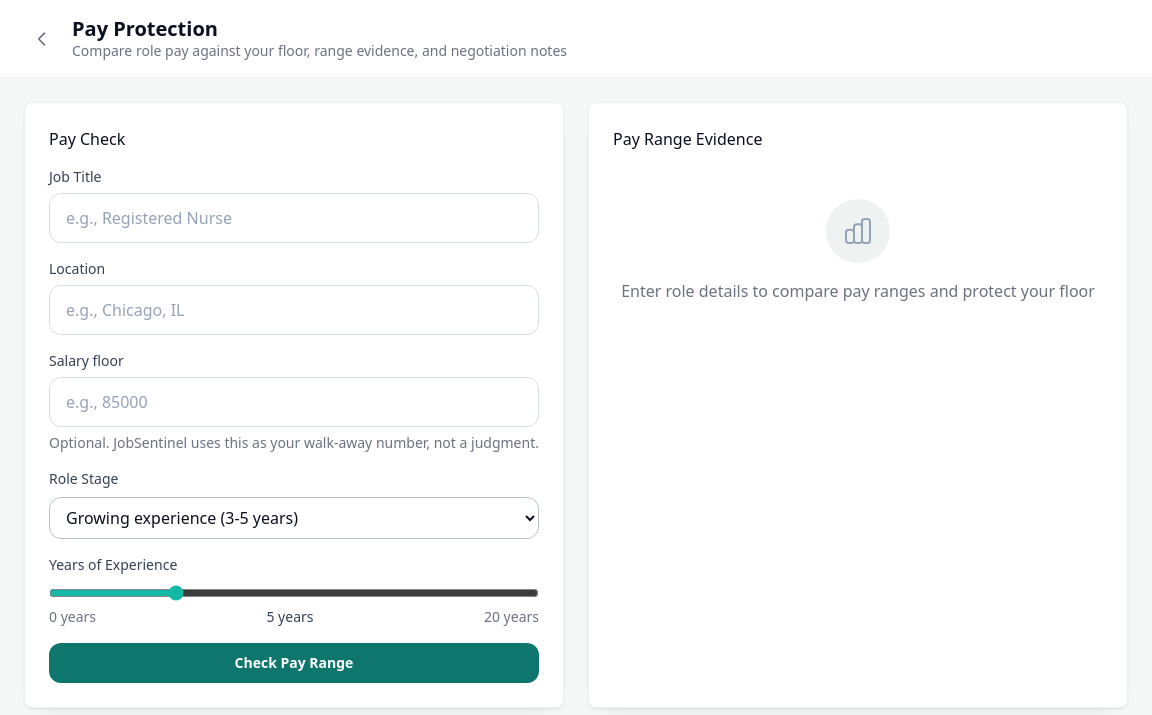
Test: Salary › warns when the salary floor is below market evidence
Type "Registered Nurse" into the field labelled "Job Title" at (294, 218), box x1=49 y1=193 x2=539 y2=243
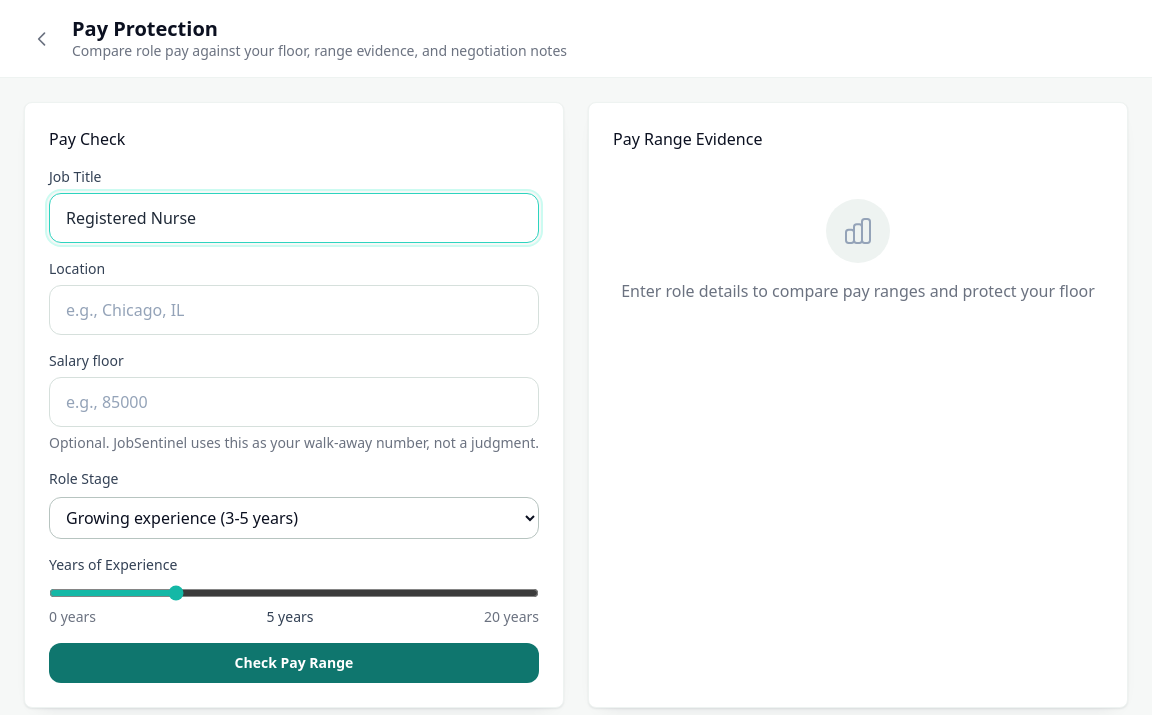
Type "Denver, CO" into the field labelled "Location" at (294, 310), box x1=49 y1=285 x2=539 y2=335
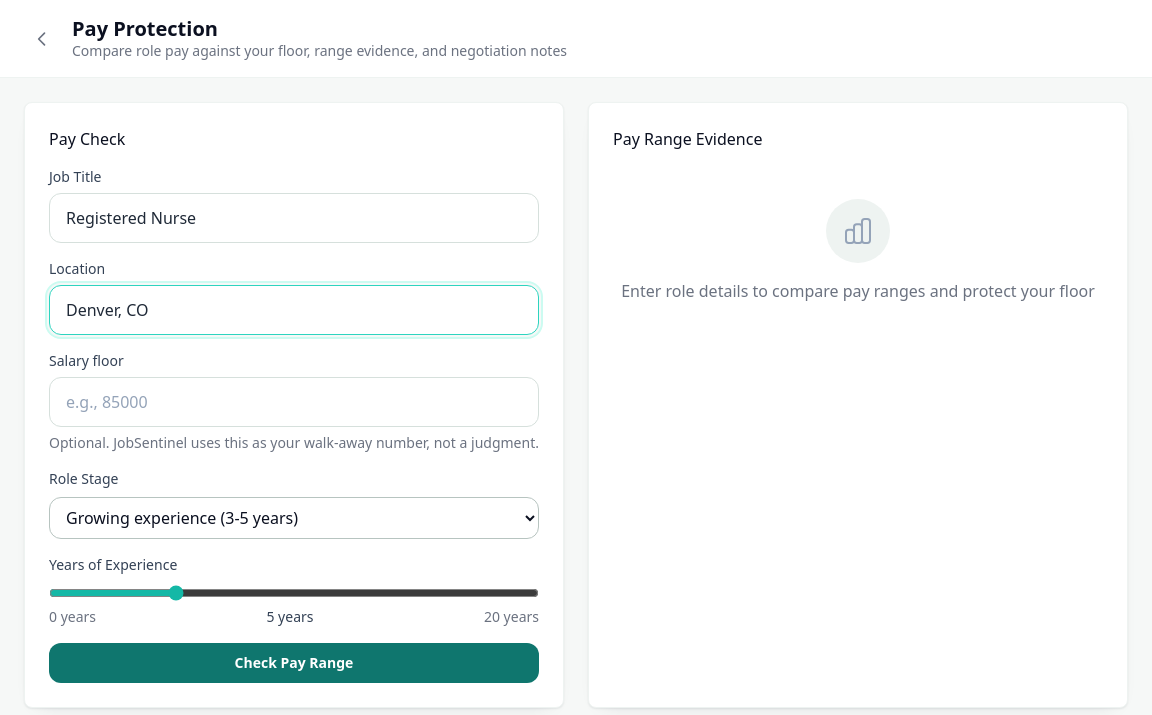
Type "120000" into the number field labelled "Salary floor" at (294, 402), box x1=49 y1=377 x2=539 y2=427
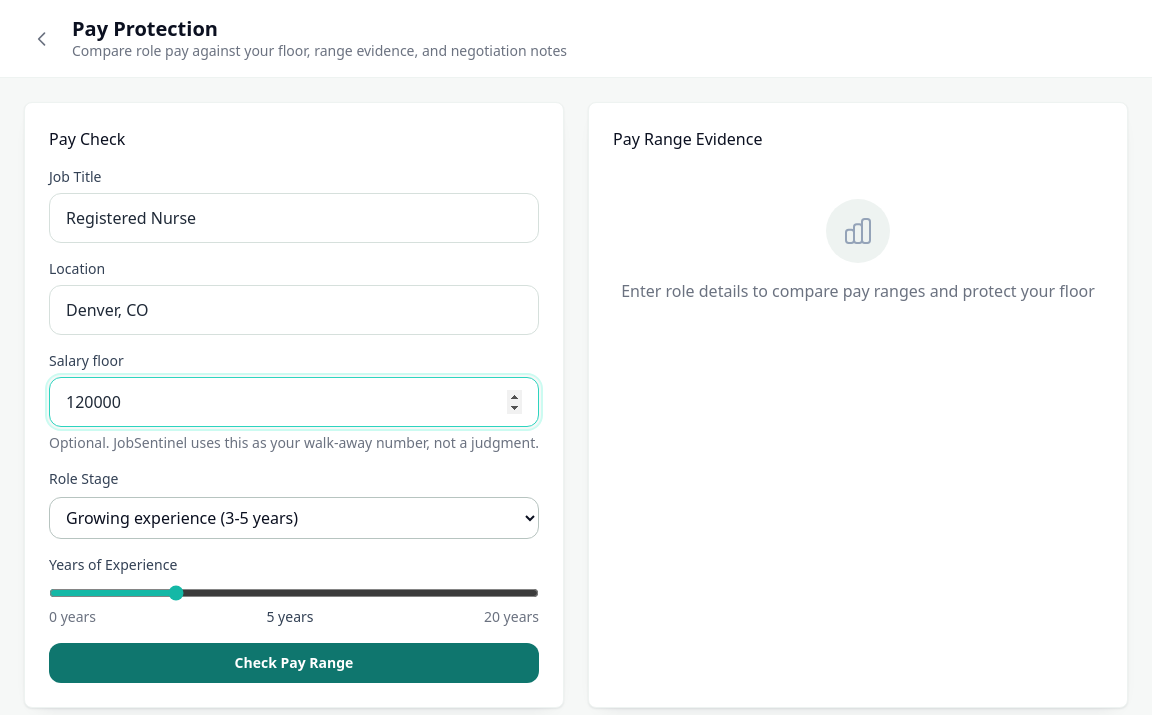
Click the button "Check Pay Range" at (294, 663), box x1=49 y1=643 x2=539 y2=683
(page scrolled)
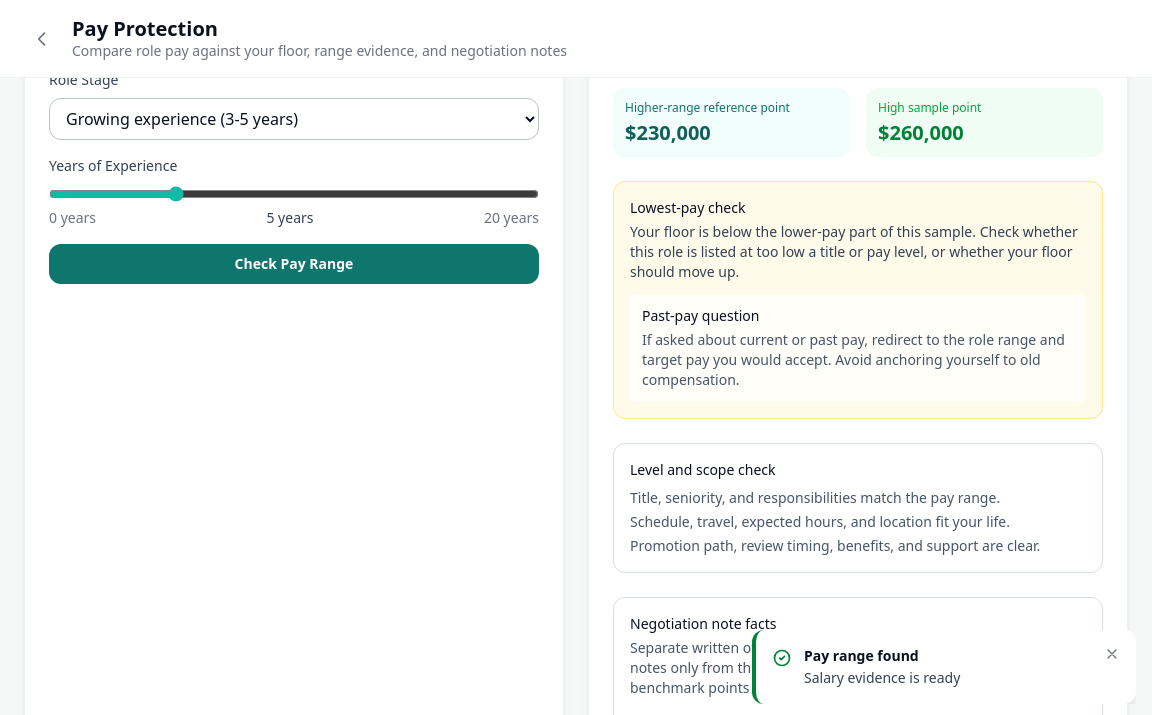
expect the text "too low a title or pay level" is shown: met, box x1=630 y1=222 x2=1078 y2=281
expect the text "Past-pay question" is shown: met, box x1=642 y1=306 x2=760 y2=325
expect the text "current or past pay" is shown: met, box x1=642 y1=330 x2=1065 y2=389
